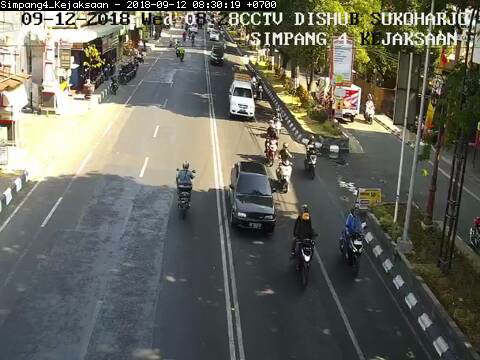motor: (292, 202, 316, 288), (341, 205, 368, 275), (274, 141, 297, 194), (303, 132, 322, 180), (264, 118, 280, 167)
